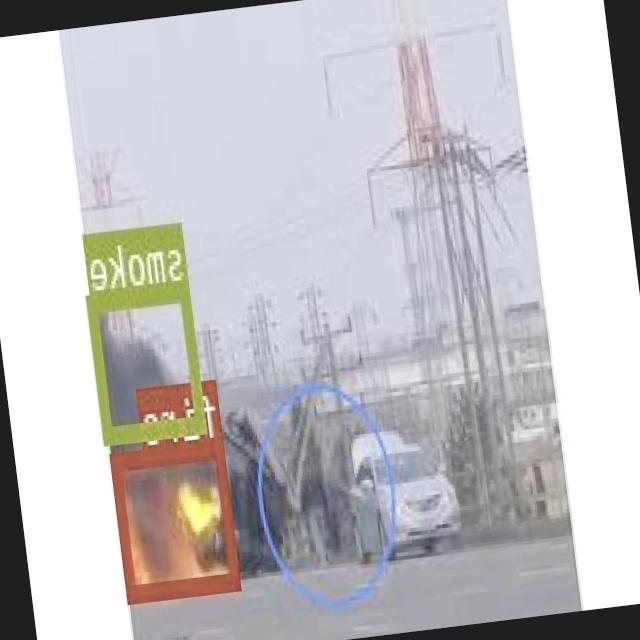fire: (112, 437, 242, 598)
smoke: (88, 280, 208, 442)
